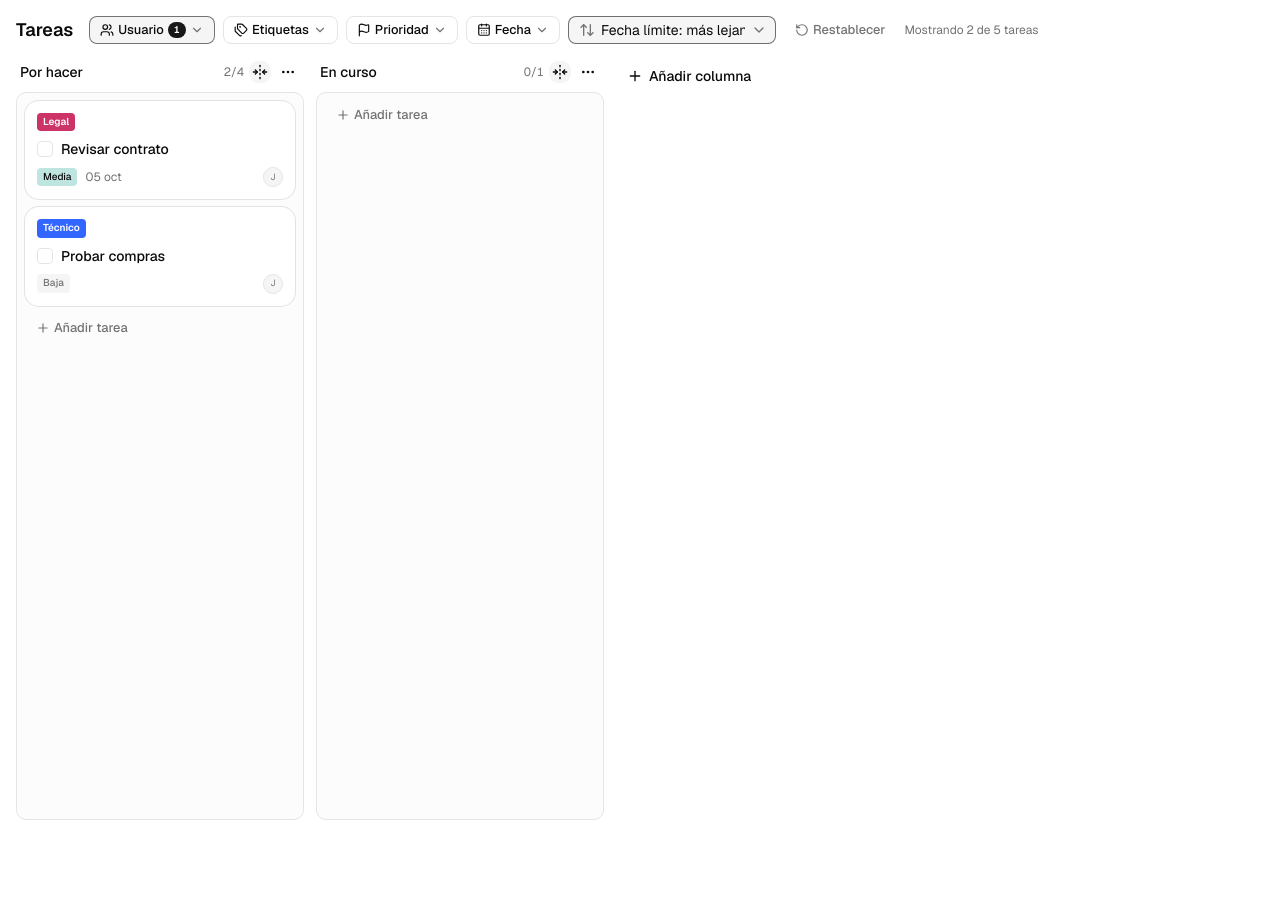
Test: TaskBoard: filtros y orden › «Restablecer» quita filtros y orden y limpia la URL
Click the button "Restablecer".
click(840, 30)  # box [784, 16, 896, 44]
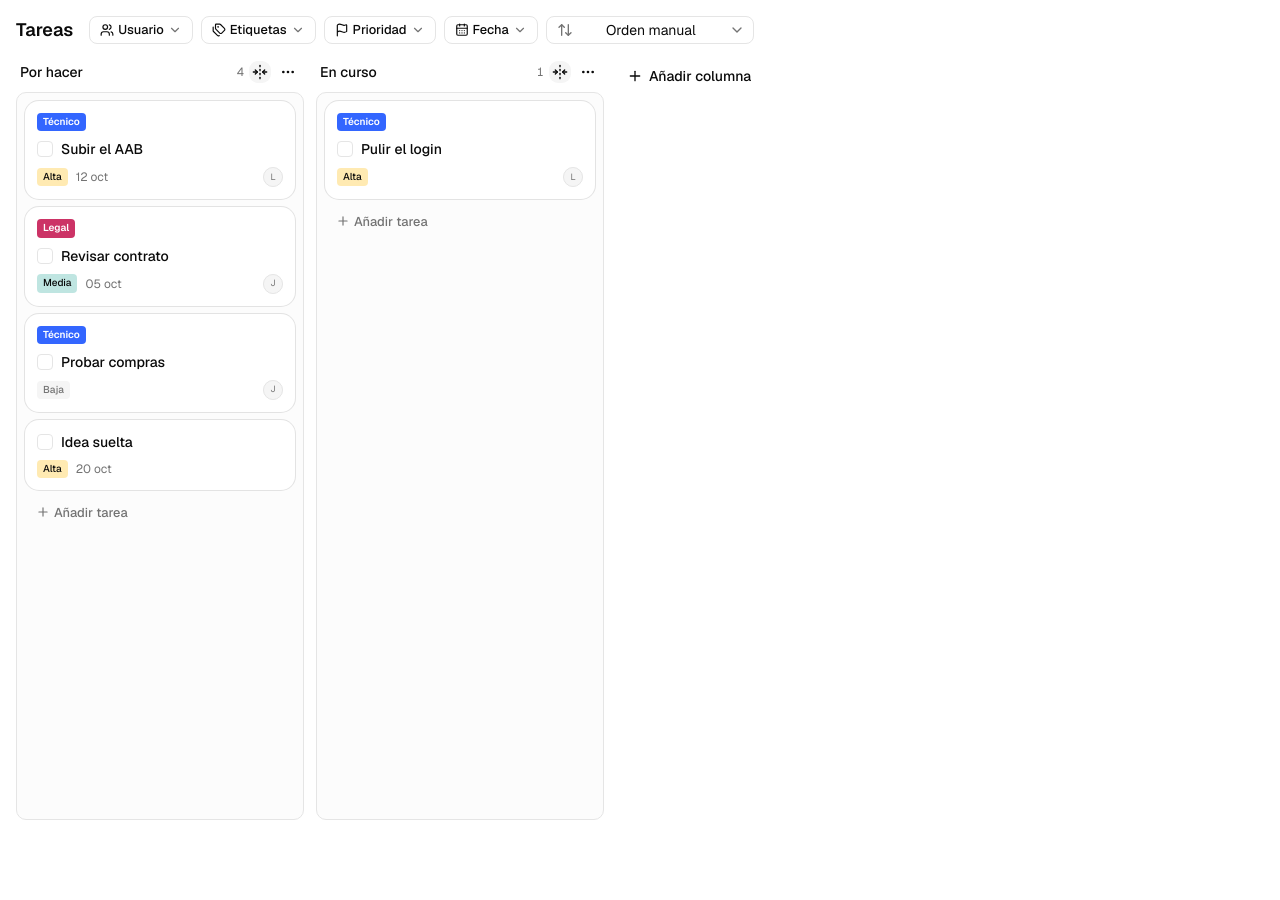
Expected: the text "Mostrando" is gone
